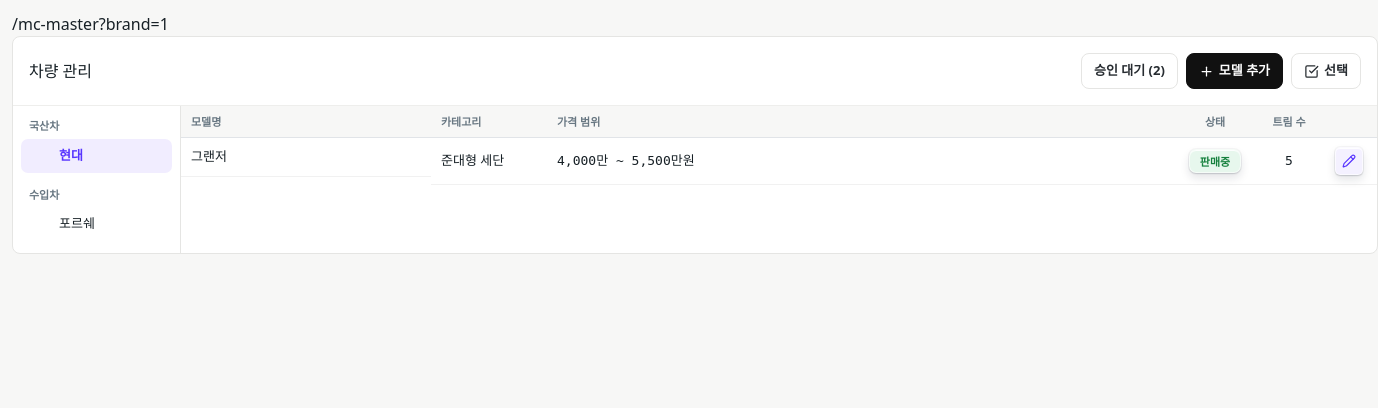
Test: 전체 승인: 확인창을 승인하면 대기 전량을 approve 한다
This screenshot has width=1378, height=408.
Expected: the text "그랜저" is shown, 191,147 -> 227,166
Click the button "승인 대기 (2)" at (1129, 71), box 1081,53 -> 1178,89
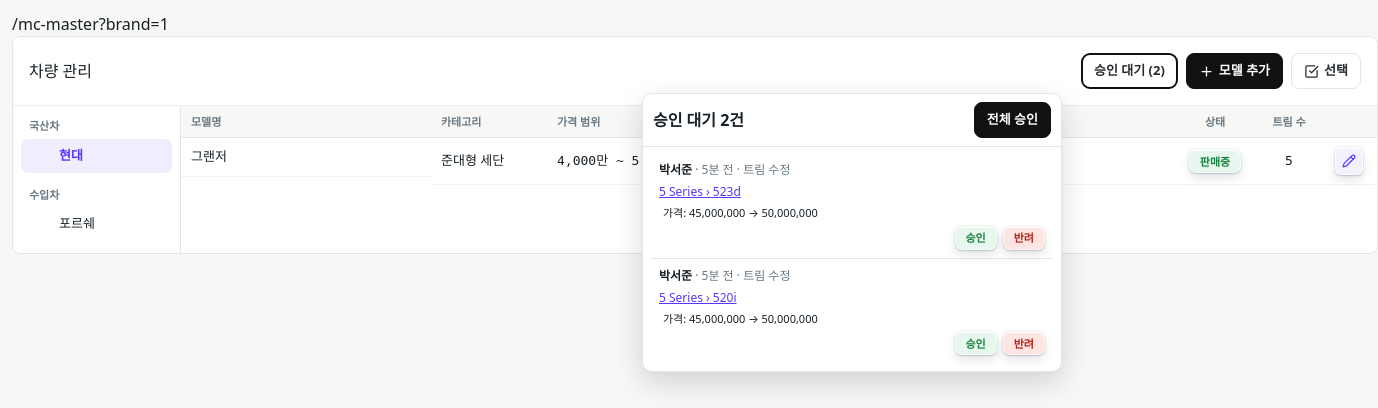
Now the button "5 Series › 523d" is shown, box 659,183 -> 741,201
Click the button "전체 승인" at (1012, 120), box 974,102 -> 1051,138
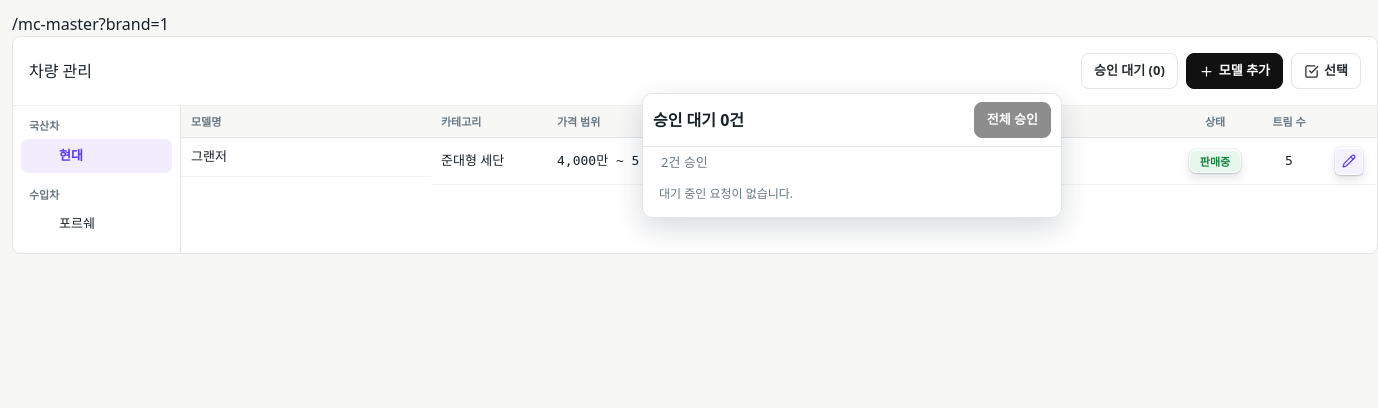
Now the text "2건 승인" is shown, box 661,153 -> 708,171
